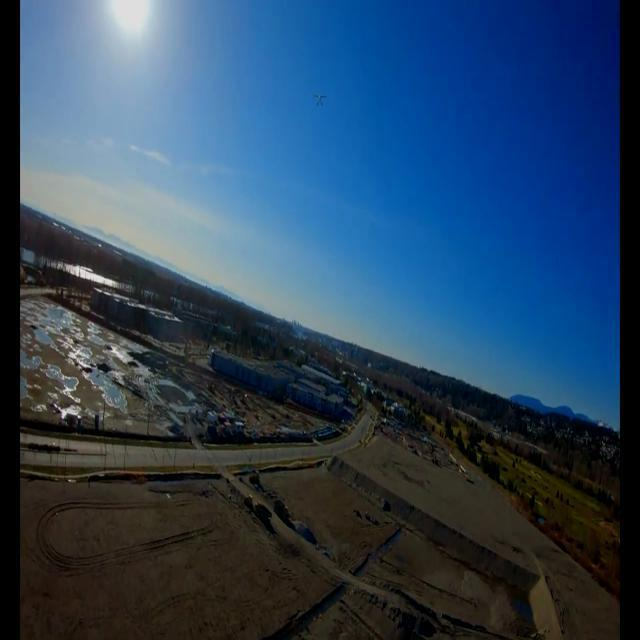iha: (310, 25, 328, 46)
